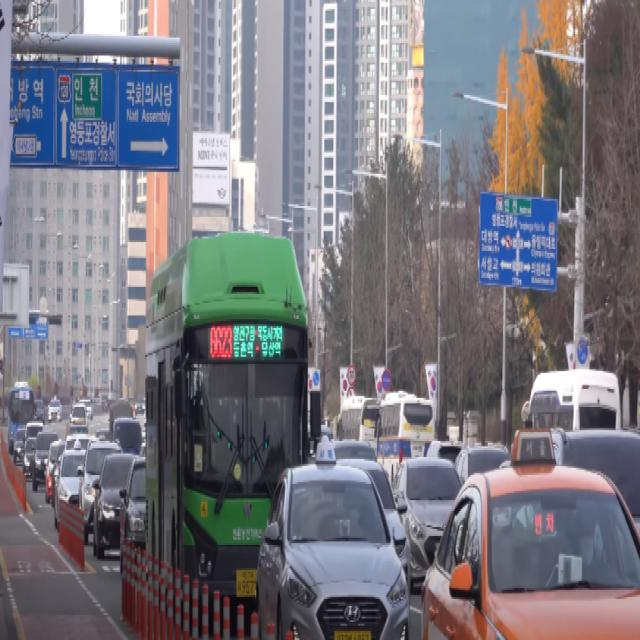bus-number: (208, 325, 232, 360)
